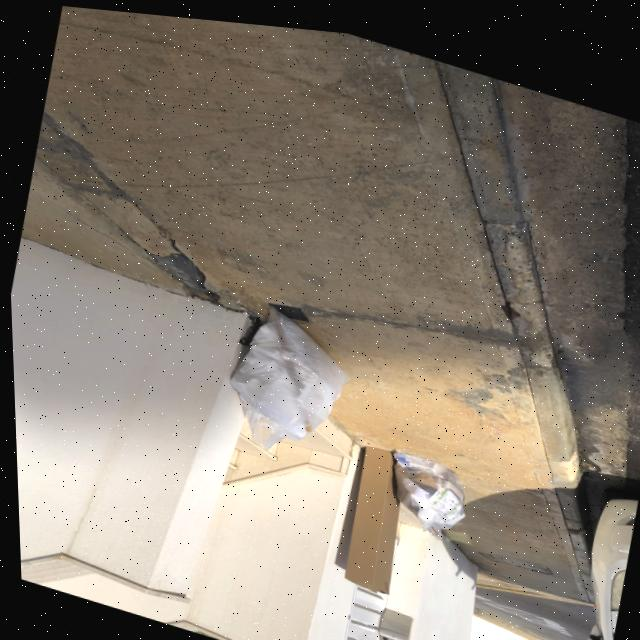Organic Waste -White Bag-: (213, 296, 354, 462), (375, 438, 472, 533)
Other: (327, 432, 414, 591)
